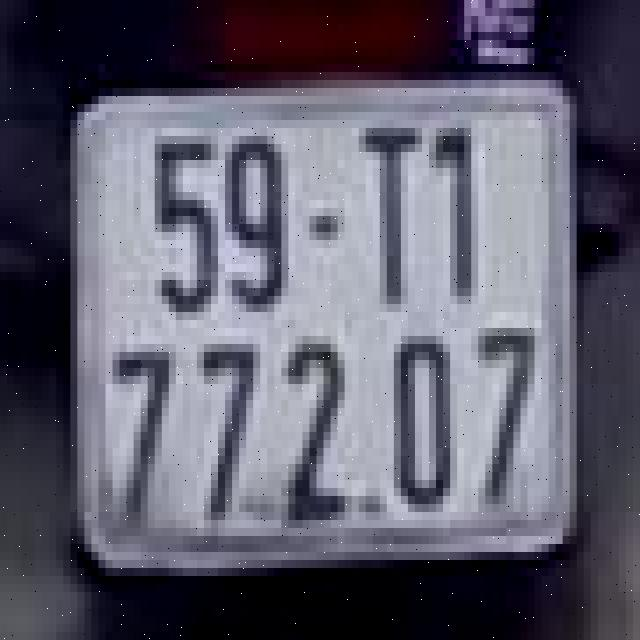0: (383, 328, 461, 520)
1: (429, 108, 492, 316)
2: (274, 328, 359, 528)
5: (148, 120, 225, 320)
7: (179, 332, 271, 532), (464, 324, 549, 524), (102, 340, 179, 548)
9: (218, 120, 295, 312)
T: (355, 120, 426, 320)
